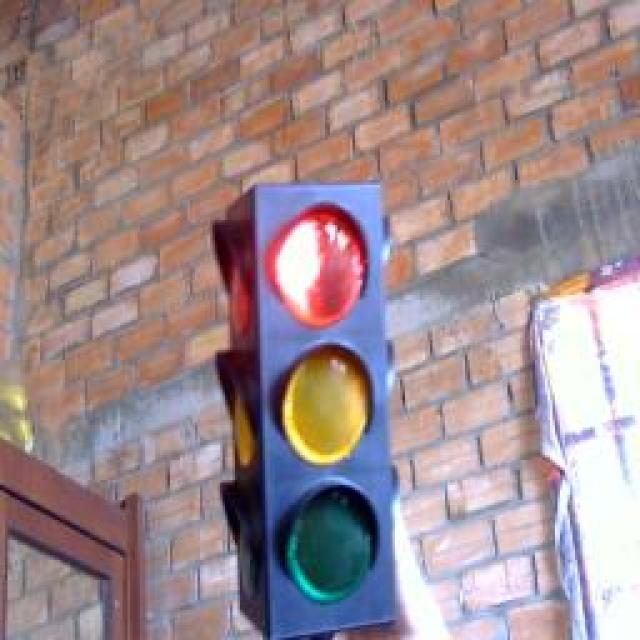-: (257, 190, 377, 337)
